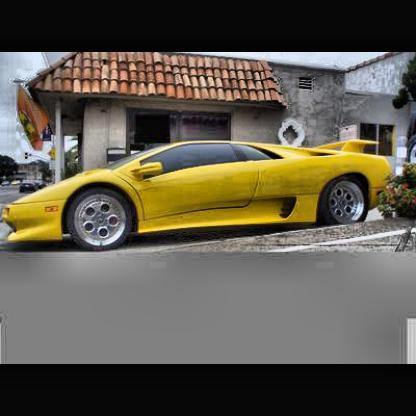Lamborghini Diablo Coupe 2001: (3, 138, 397, 247)
